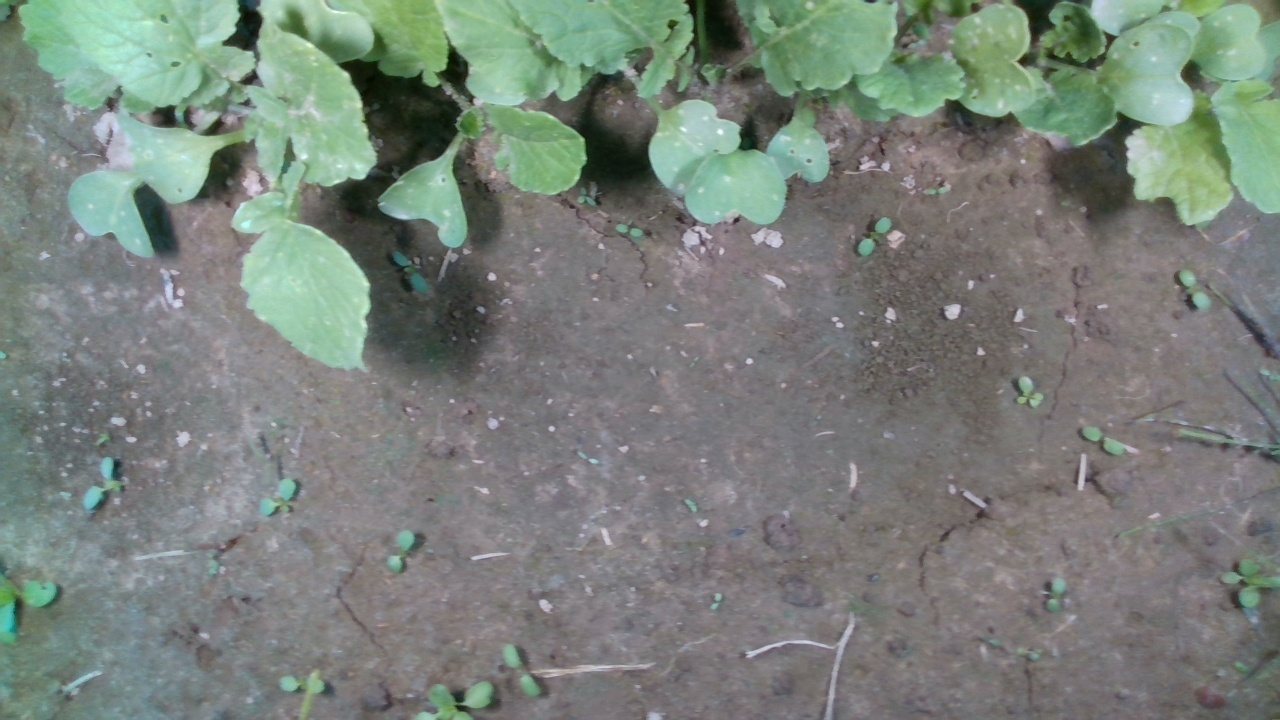weed: (500, 643, 542, 698), (79, 452, 115, 511), (390, 248, 430, 298), (258, 476, 297, 518), (855, 217, 894, 258), (1082, 424, 1125, 458), (385, 527, 416, 573), (1179, 269, 1211, 313), (1015, 375, 1045, 408), (1044, 576, 1068, 615), (576, 185, 595, 208), (614, 223, 643, 237), (709, 591, 722, 612)
